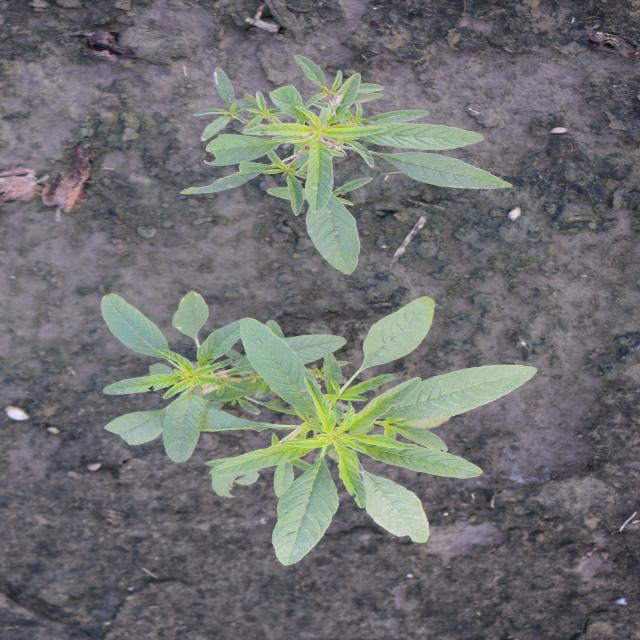Waterhemp: (98, 288, 540, 567), (176, 52, 517, 277)
